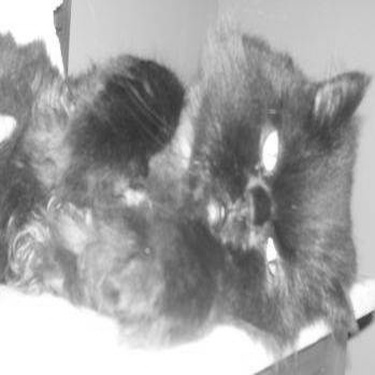cat: (15, 12, 370, 343)
